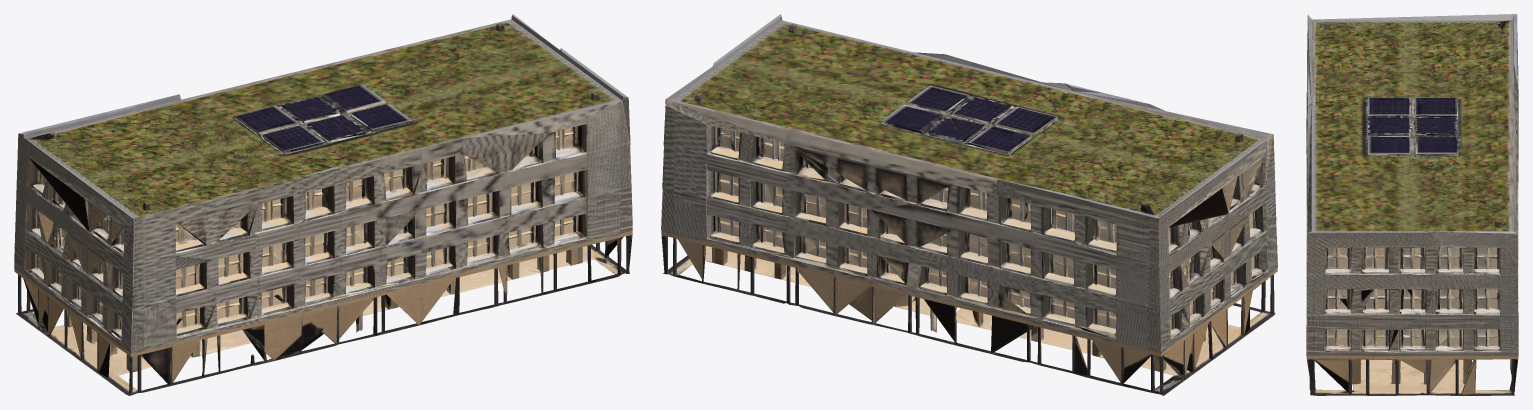
File: campus-block.glb
3 renders of one model, left to right at view 1: azimuth 30°, elevation 25°; view 2: azimuth 150°, elevation 25°; view 3: azimuth 270°, elevation 25°, orthographic. The views are drawn at different scales.
Bounding box in the file's own units: 1.9 × 0.6955 × 0.7672.
1 material, 1 textured.
